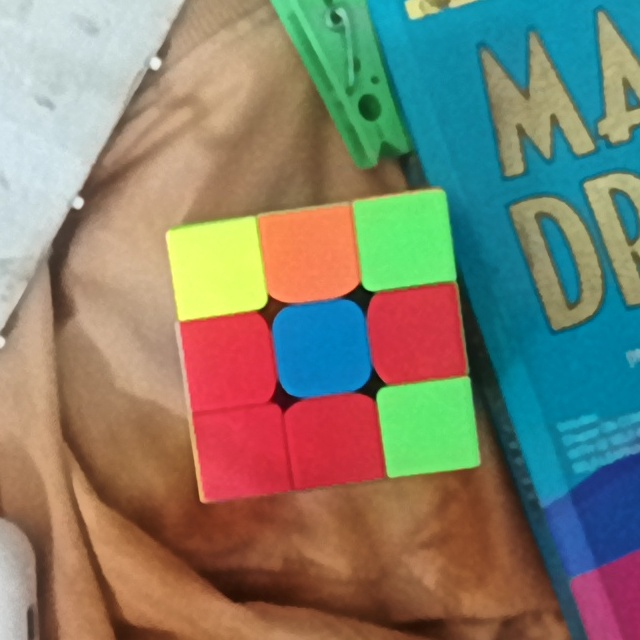tile: (377, 296, 458, 372), (387, 391, 469, 464), (367, 204, 444, 281), (286, 311, 363, 385), (272, 217, 351, 288), (179, 231, 255, 304), (207, 416, 284, 487), (189, 328, 266, 398), (295, 408, 374, 474)
